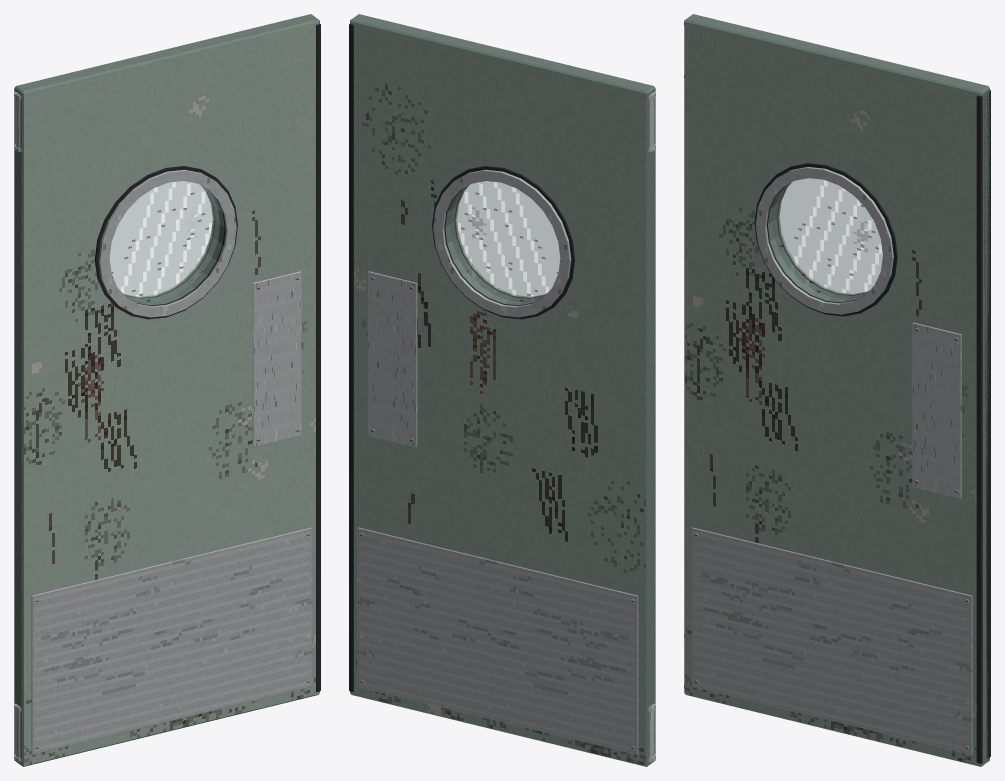
Rendered from door_swing_4.glb.
The picture shows the model from 3 angles, left to right: view 1: azimuth 30°, elevation 25°; view 2: azimuth 150°, elevation 25°; view 3: azimuth 330°, elevation 25°; orthographic projection.
Visible parts, largest first — view 1: leaf_body, kick_plate_front, door_glass, push_plate_front, porthole_rim_front, meeting_edge_seal, porthole_gasket_front, double_action_pivots; view 2: leaf_body, kick_plate_back, door_glass, push_plate_back, porthole_rim_back, meeting_edge_seal, porthole_gasket_back, double_action_pivots; view 3: leaf_body, kick_plate_front, door_glass, push_plate_front, meeting_edge_seal, porthole_rim_front, porthole_gasket_front.
Part boxes in pixels (bbox=[...]): leaf_body: bbox=[14, 14, 319, 766]; kick_plate_front: bbox=[31, 527, 312, 754]; door_glass: bbox=[110, 181, 219, 301]; push_plate_front: bbox=[252, 271, 301, 447]; porthole_rim_front: bbox=[98, 169, 236, 317]; meeting_edge_seal: bbox=[316, 23, 320, 692]; porthole_gasket_front: bbox=[94, 166, 237, 319]; double_action_pivots: bbox=[14, 91, 21, 762]; leaf_body: bbox=[350, 14, 655, 766]; kick_plate_back: bbox=[357, 527, 638, 754]; door_glass: bbox=[450, 181, 559, 301]; push_plate_back: bbox=[368, 271, 417, 447]; porthole_rim_back: bbox=[433, 169, 571, 317]; meeting_edge_seal: bbox=[349, 23, 353, 692]; porthole_gasket_back: bbox=[432, 166, 575, 319]; double_action_pivots: bbox=[648, 91, 655, 762]; leaf_body: bbox=[684, 14, 989, 766]; kick_plate_front: bbox=[691, 527, 972, 754]; door_glass: bbox=[772, 178, 882, 298]; push_plate_front: bbox=[912, 322, 961, 498]; meeting_edge_seal: bbox=[976, 90, 990, 763]; porthole_rim_front: bbox=[755, 167, 893, 314]; porthole_gasket_front: bbox=[754, 163, 897, 316].
Bounding box in the file's own units: 0.9587 × 2.06 × 0.08.
Materials: 2 (2 with a texture image).
